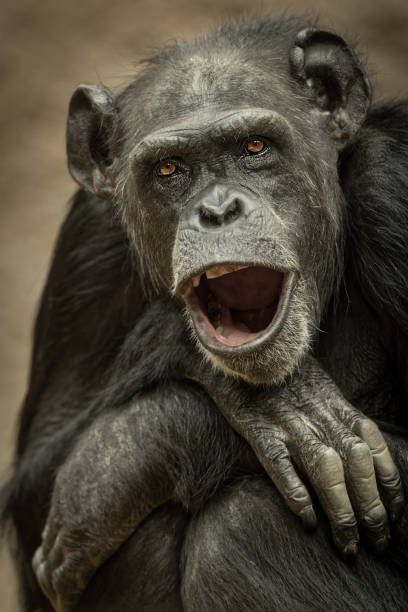chimpanzee: (36, 6, 406, 423)
